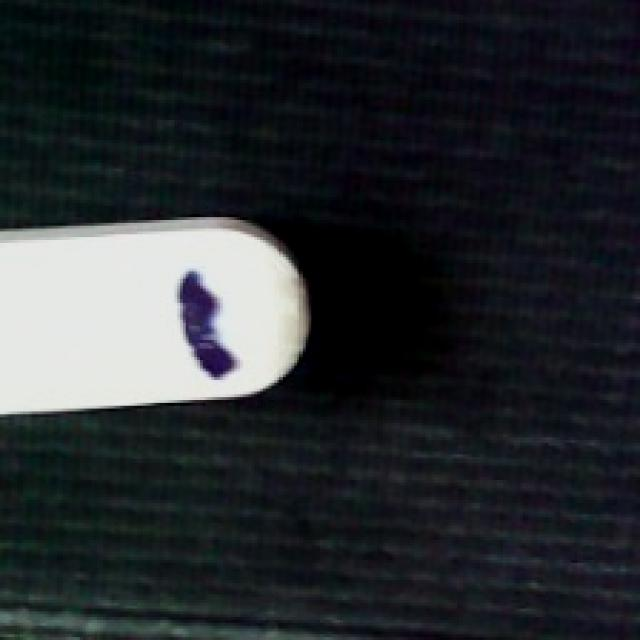defected: (3, 212, 320, 417)
